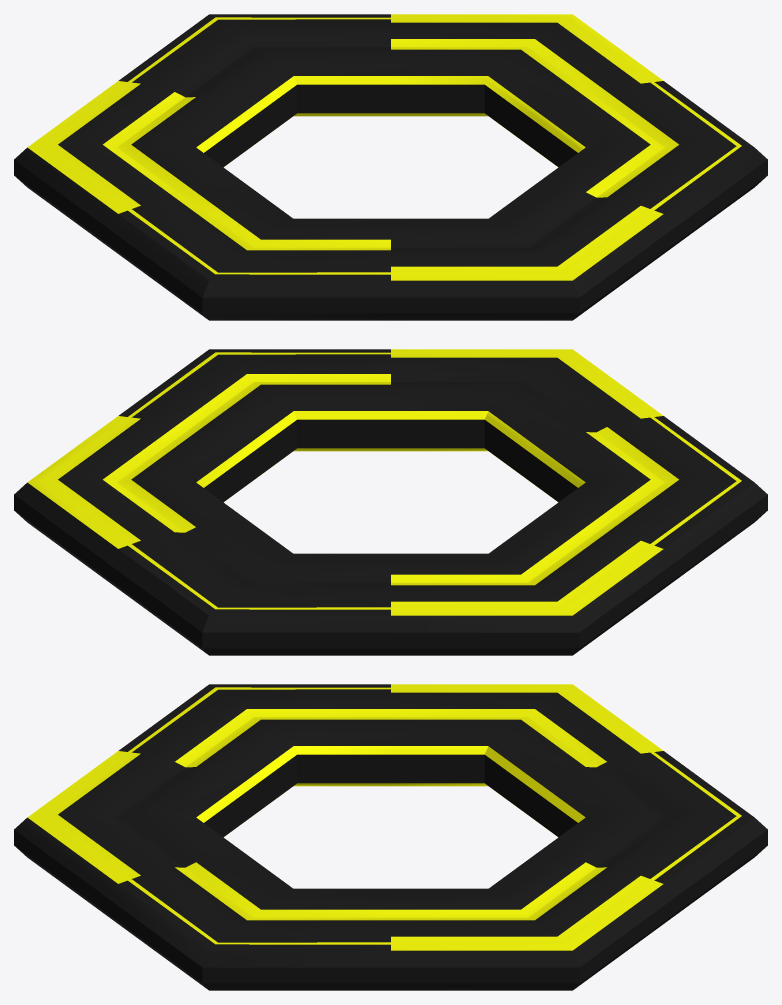
File: sciFi Coin.fbx
The picture shows the model from 3 angles, top to bottom: view 1: azimuth 30°, elevation 25°; view 2: azimuth 150°, elevation 25°; view 3: azimuth 270°, elevation 25°; orthographic projection.
Parts seen in each view (by area): view 1: Tube004.002, Tube004.001; view 2: Tube004.002, Tube004.001; view 3: Tube004.002, Tube004.001.
Boxes of the visible parts, x1,y1,x2,y2 form: Tube004.002: (14, 14, 767, 310); Tube004.001: (14, 87, 767, 320); Tube004.002: (14, 349, 767, 645); Tube004.001: (14, 422, 767, 655); Tube004.002: (14, 684, 767, 980); Tube004.001: (14, 757, 767, 990).
Bounding box in the file's own units: 5.95 × 0.5165 × 6.87.
